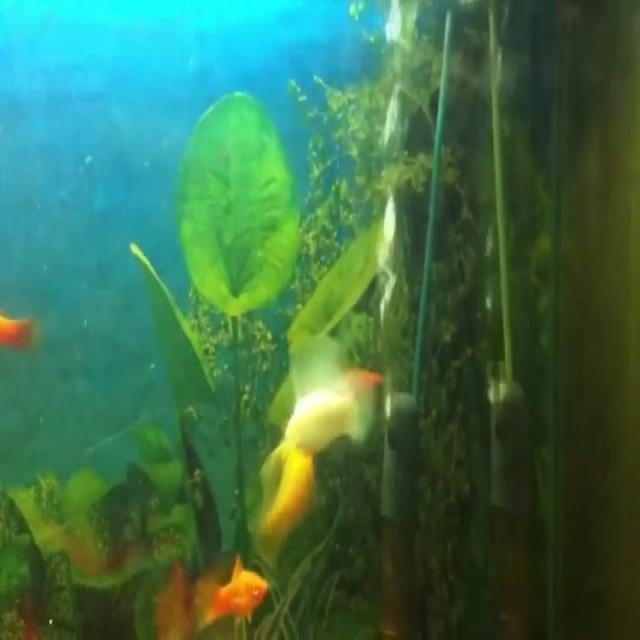PlatyFish: (186, 550, 279, 639)
